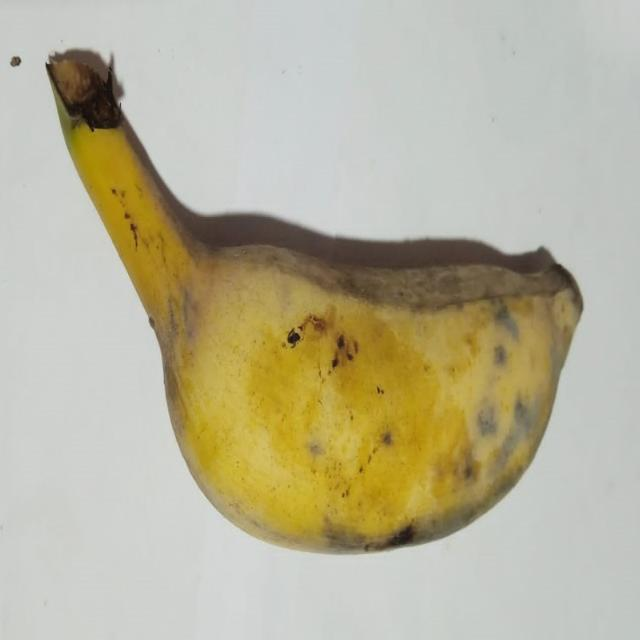banana: (48, 60, 582, 552)
